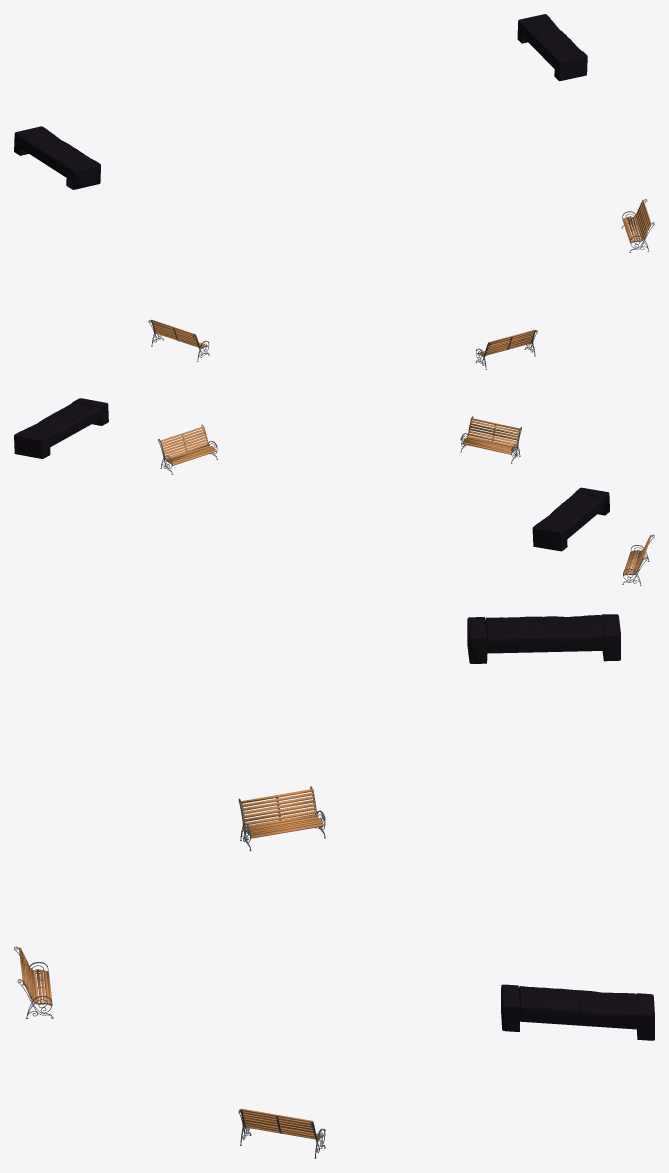
The model's file is Banc.glb.
3 renders of one model, top to bottom at view 1: azimuth 30°, elevation 25°; view 2: azimuth 150°, elevation 25°; view 3: azimuth 270°, elevation 25°, orthographic. The views are drawn at different scales.
Visible parts, largest first — view 1: SOFA.002_0, Bench.001; view 2: SOFA.002_0, Bench.001; view 3: SOFA.002_0, Bench.001.
Part boxes in pixels (x1,y1,x2,y2): SOFA.002_0: (14, 14, 587, 189); Bench.001: (148, 199, 654, 369); SOFA.002_0: (14, 398, 609, 551); Bench.001: (158, 416, 654, 585); SOFA.002_0: (467, 614, 654, 1040); Bench.001: (14, 786, 325, 1158).
Bounding box in the file's own units: 99.07 × 24.81 × 72.79.
Materials: 2 (1 with a texture image).
